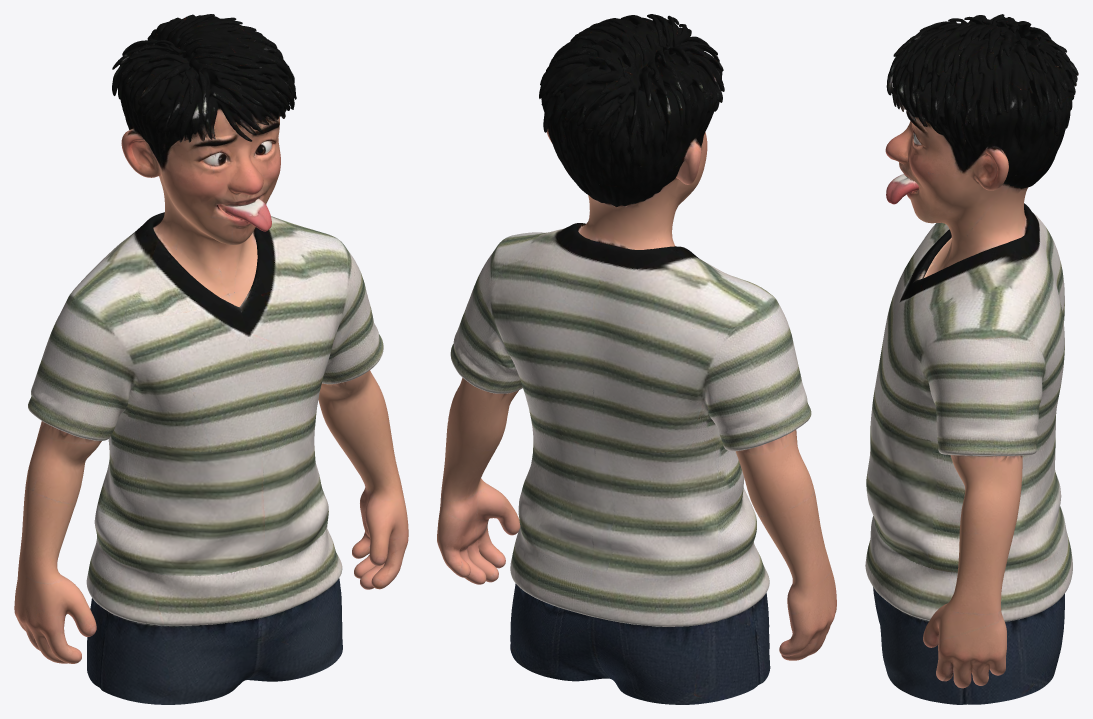
The model's file is character-mobile.glb.
3 views of the same model, side by side, from view 1: azimuth 30°, elevation 25°; view 2: azimuth 150°, elevation 25°; view 3: azimuth 270°, elevation 25° (orthographic).
Parts seen in each view (by area): view 1: Character_halfbody; view 2: Character_halfbody; view 3: Character_halfbody.
Part boxes in pixels (x1=…): Character_halfbody: x1=14, y1=14, x2=408, y2=704; Character_halfbody: x1=437, y1=14, x2=836, y2=704; Character_halfbody: x1=865, y1=14, x2=1078, y2=704.
Size of the model in its own units: 0.7494 by 1.19 by 0.3689.
2 materials, 1 textured.
